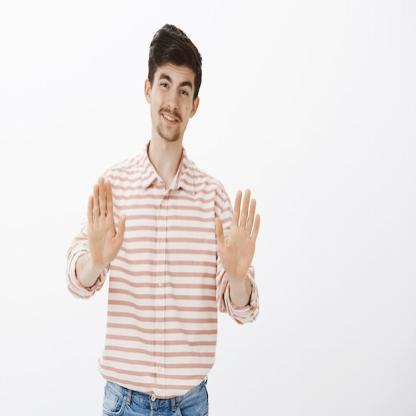stop: (212, 183, 262, 282), (82, 174, 128, 271)
